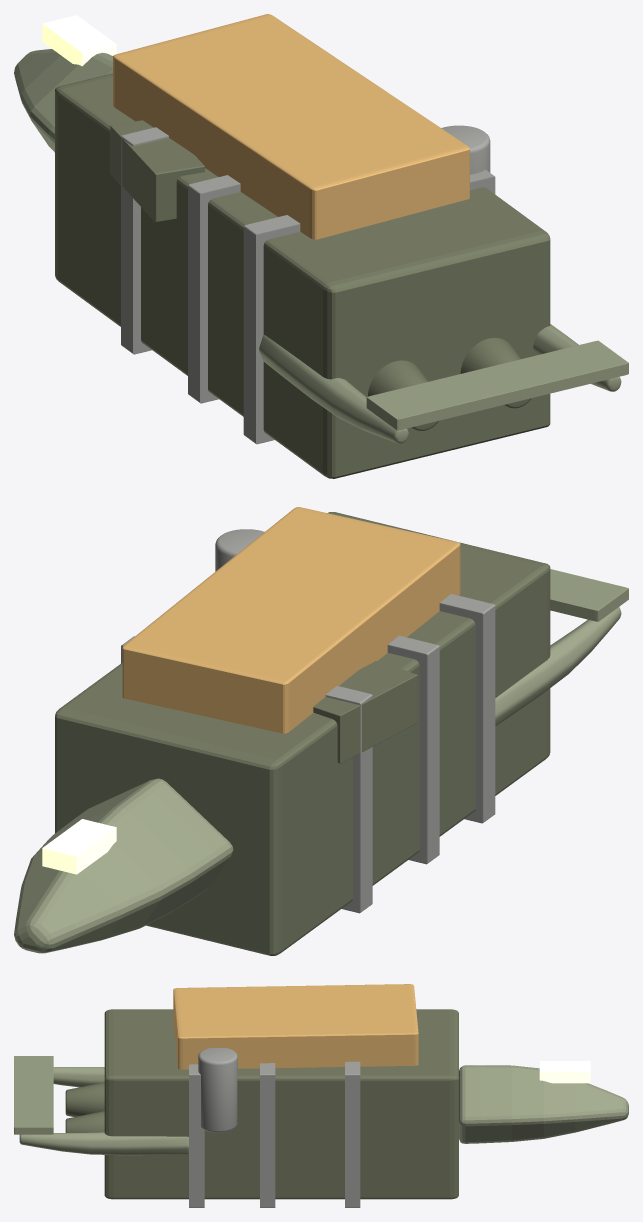
File: astryn-vel-freighter.glb
3 renders of one model, top to bottom at view 1: azimuth 30°, elevation 25°; view 2: azimuth 150°, elevation 25°; view 3: azimuth 270°, elevation 25°, orthographic. The views are drawn at different scales.
Parts seen in each view (by area): view 1: Cube.001, Cube.002, Cube.007, Cube.005, Cube.006, Cube.004, boom, hull, Cube.003, Cube, Cone.001, Cone (+2 smaller); view 2: Cube.001, Cube.002, hull, Cube.006, Cube.005, Cube.004, Cube.003, boom, Cube.007, Cube, Cylinder; view 3: Cube.001, Cube.002, hull, Cube.007, boom.001, Cylinder, Cube.003, Cube.004, Cube.005, Cube, Cone, boom (+1 smaller).
Boxes of the visible parts, box(x1,y1,x2,y2) form: Cube.001: box(55, 73, 550, 478); Cube.002: box(113, 14, 469, 239); Cube.007: box(366, 340, 628, 430); Cube.005: box(243, 169, 495, 444); Cube.006: box(110, 120, 204, 222); Cube.004: box(188, 175, 240, 403); boom: box(259, 335, 408, 443); hull: box(14, 49, 112, 152); Cube.003: box(121, 127, 168, 354); Cube: box(42, 15, 116, 66); Cone.001: box(460, 337, 531, 408); Cone: box(368, 360, 438, 430); Cube.001: box(55, 512, 550, 955); Cube.002: box(122, 507, 460, 733); hull: box(14, 778, 233, 953); Cube.006: box(313, 661, 417, 763); Cube.005: box(439, 594, 495, 823); Cube.004: box(387, 635, 439, 864); Cube.003: box(121, 636, 372, 913); boom: box(495, 607, 621, 726); Cube.007: box(550, 569, 628, 621); Cube: box(42, 819, 116, 874); Cylinder: box(215, 529, 264, 571); Cube.001: box(104, 1009, 458, 1199); Cube.002: box(173, 984, 418, 1069); hull: box(459, 1065, 628, 1143); Cube.007: box(14, 1056, 53, 1134); boom.001: box(19, 1132, 188, 1155); Cylinder: box(198, 1048, 237, 1132); Cube.003: box(345, 1061, 360, 1207); Cube.004: box(260, 1063, 275, 1207); Cube.005: box(189, 1064, 204, 1207); Cube: box(539, 1061, 590, 1083); Cone: box(65, 1082, 104, 1116); boom: box(53, 1067, 104, 1087).
Size of the model in its own units: 1.37 by 1.25 by 4.34.
